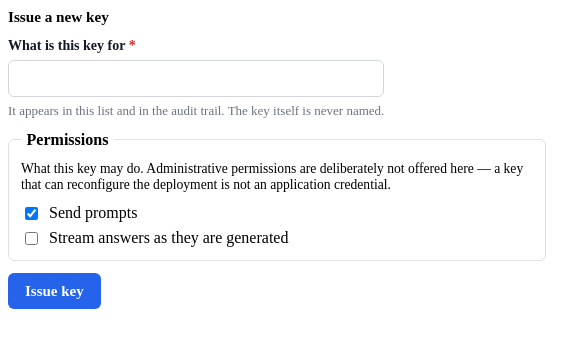
it: failures are keyed, and never echo a body › a refusal renders Moira's key through the catalog
This screenshot has width=563, height=356.
Type "Checkout" into the field labelled "What is this key for *" at (196, 78), box [8, 60, 384, 97]
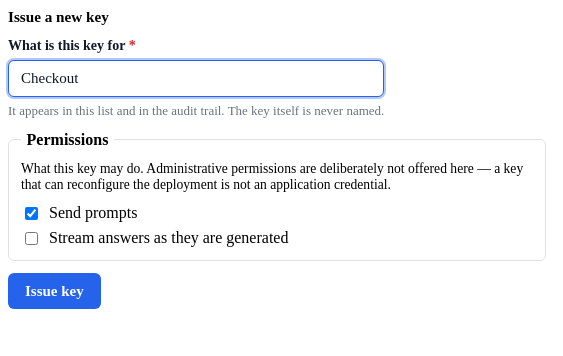
Click the button "Issue key" at (54, 291), box [8, 272, 101, 309]
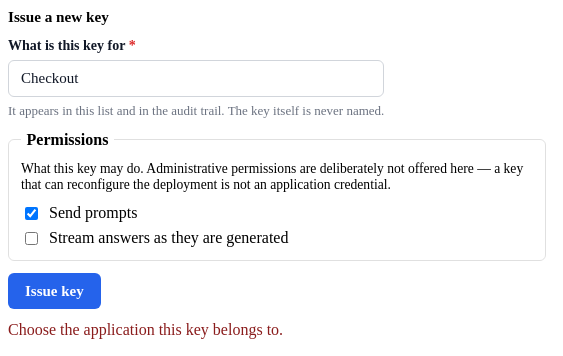
Now the message reads "Choose the application this key belongs to.", box [8, 321, 283, 338]
